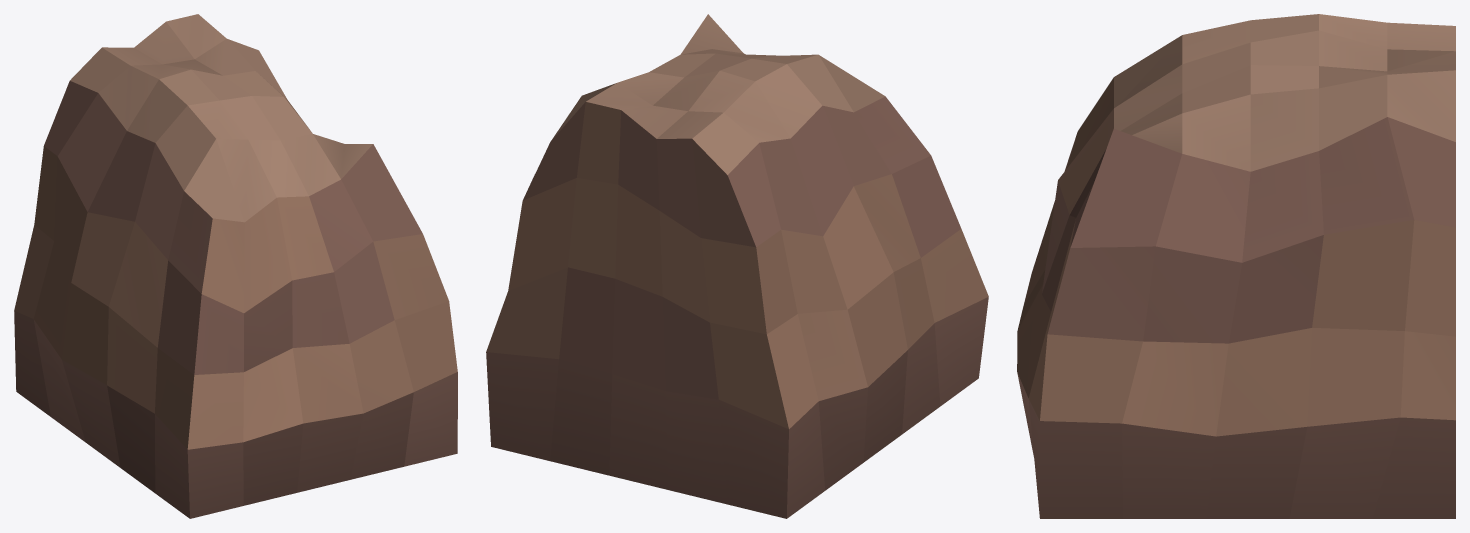
Rendered from roca_punta.glb.
The picture shows the model from 3 angles, left to right: view 1: azimuth 30°, elevation 25°; view 2: azimuth 150°, elevation 25°; view 3: azimuth 270°, elevation 25°; orthographic projection. The views are drawn at different scales.
Visible parts, largest first — view 1: propforge-cuartos-roca_punta; view 2: propforge-cuartos-roca_punta; view 3: propforge-cuartos-roca_punta.
Boxes of the visible parts, x1=… form: propforge-cuartos-roca_punta: x1=14, y1=14, x2=457, y2=518; propforge-cuartos-roca_punta: x1=486, y1=14, x2=988, y2=518; propforge-cuartos-roca_punta: x1=1017, y1=14, x2=1455, y2=518.
Size of the model in its own units: 0.8674 by 0.9574 by 0.9494.
